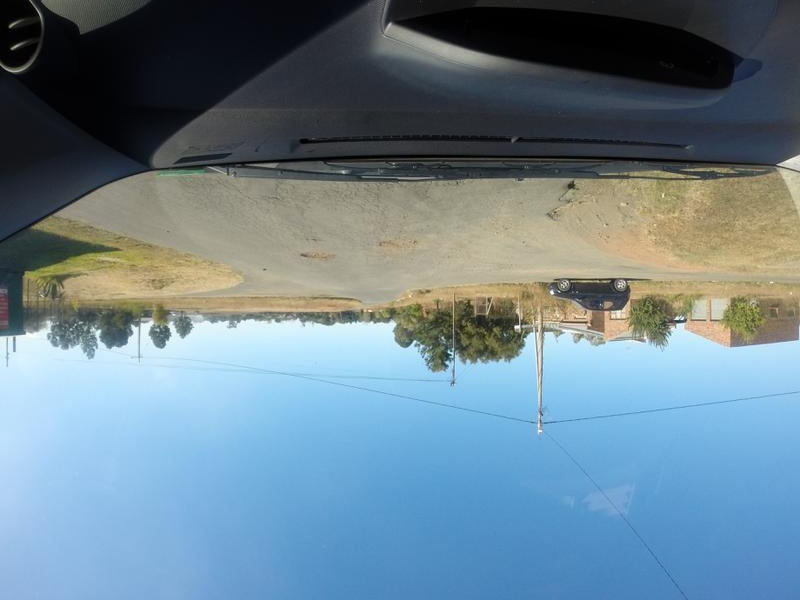pothole: (533, 186, 610, 221), (372, 228, 419, 257), (295, 244, 335, 266)
